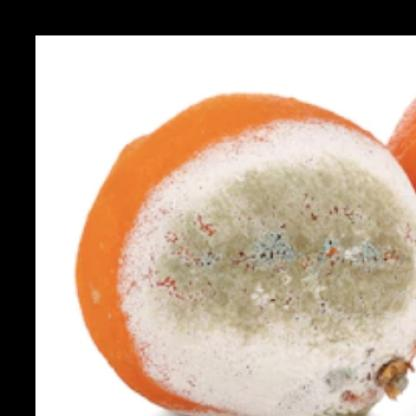rotten: (77, 91, 416, 414)
